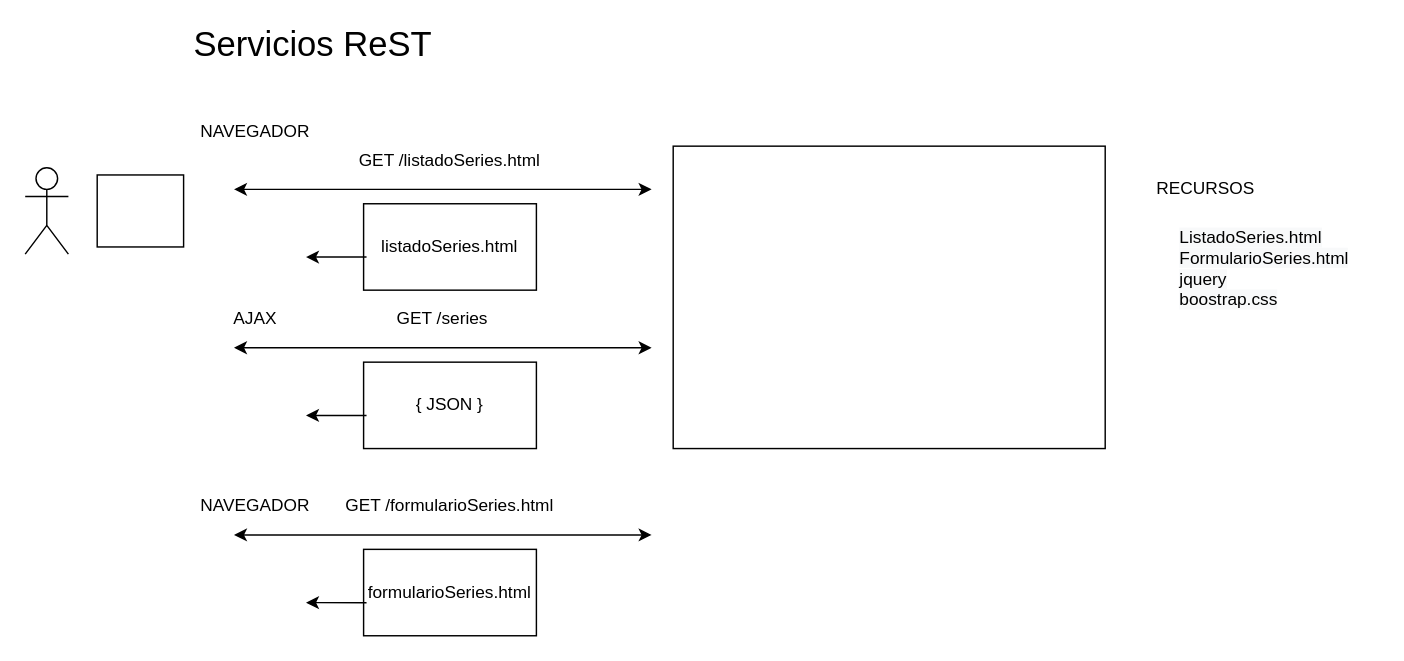
Some shapes in this 1404 by 661 pixel diagram are drawn without their labels. Each missing label, with the box of its shape:
Actor: (24, 166, 68, 254)
NODE.JS + EXPRESS: (672, 145, 1105, 449)
